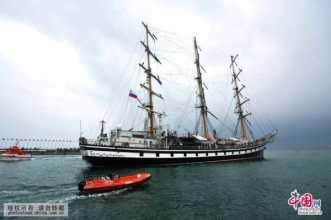fanchuan: (79, 22, 282, 167)
otherboat: (74, 170, 153, 196)
